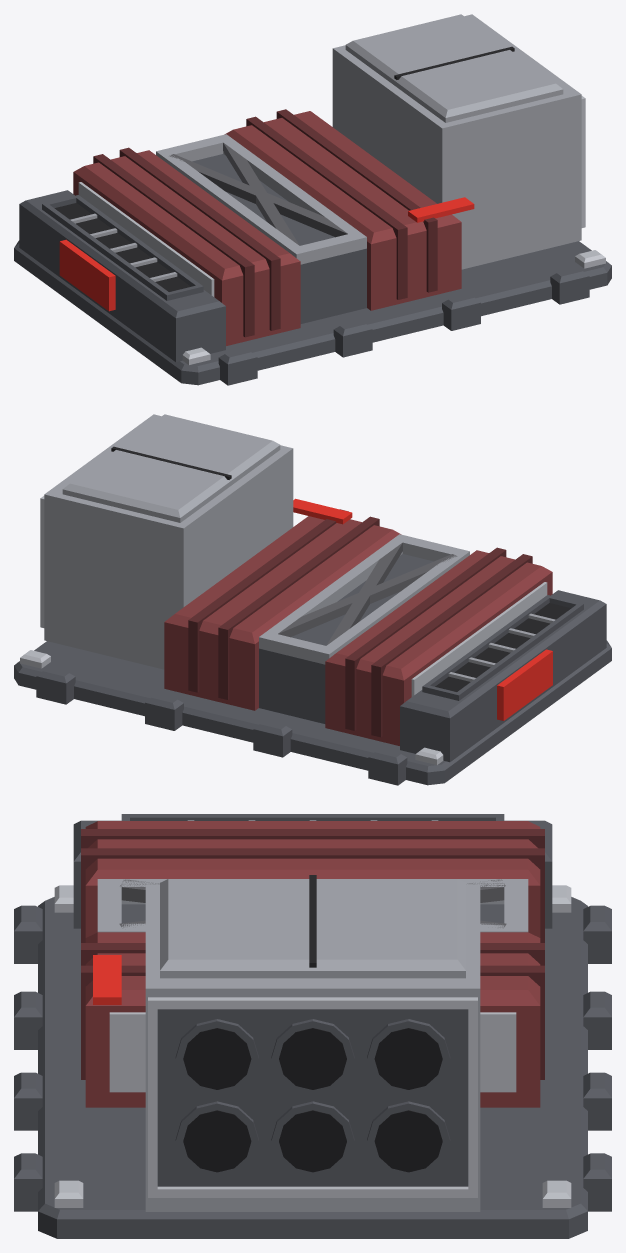
The model's file is vge_egun_javelin_pod.obj.
3 renders of one model, top to bottom at view 1: azimuth 30°, elevation 25°; view 2: azimuth 150°, elevation 25°; view 3: azimuth 270°, elevation 25°, orthographic. The views are drawn at different scales.
Parts seen in each view (by area): view 1: vge_egun_javelin_pod_58, vge_egun_javelin_pod_83, vge_egun_javelin_pod_2, vge_egun_javelin_pod_46, vge_egun_javelin_pod_40, vge_egun_javelin_pod_27, vge_egun_javelin_pod_1, vge_egun_javelin_pod_51, vge_egun_javelin_pod_45, vge_egun_javelin_pod_39, vge_egun_javelin_pod_28, vge_egun_javelin_pod_47 (+21 smaller); view 2: vge_egun_javelin_pod_58, vge_egun_javelin_pod_83, vge_egun_javelin_pod_2, vge_egun_javelin_pod_46, vge_egun_javelin_pod_40, vge_egun_javelin_pod_27, vge_egun_javelin_pod_1, vge_egun_javelin_pod_51, vge_egun_javelin_pod_45, vge_egun_javelin_pod_39, vge_egun_javelin_pod_28, vge_egun_javelin_pod_47 (+21 smaller); view 3: vge_egun_javelin_pod_2, vge_egun_javelin_pod_83, vge_egun_javelin_pod_59, vge_egun_javelin_pod_40, vge_egun_javelin_pod_58, vge_egun_javelin_pod_1, vge_egun_javelin_pod_45, vge_egun_javelin_pod_42, vge_egun_javelin_pod_50, vge_egun_javelin_pod_41, vge_egun_javelin_pod_46, vge_egun_javelin_pod_67 (+46 smaller).
Boxes of the visible parts, x1=… form: vge_egun_javelin_pod_58: x1=332, y1=14, x2=581, y2=269; vge_egun_javelin_pod_83: x1=346, y1=14, x2=562, y2=117; vge_egun_javelin_pod_2: x1=14, y1=240, x2=611, y2=372; vge_egun_javelin_pod_46: x1=224, y1=111, x2=461, y2=244; vge_egun_javelin_pod_40: x1=74, y1=150, x2=300, y2=280; vge_egun_javelin_pod_27: x1=19, y1=204, x2=225, y2=362; vge_egun_javelin_pod_1: x1=14, y1=248, x2=611, y2=385; vge_egun_javelin_pod_51: x1=192, y1=154, x2=366, y2=323; vge_egun_javelin_pod_45: x1=367, y1=222, x2=461, y2=310; vge_egun_javelin_pod_39: x1=73, y1=172, x2=300, y2=345; vge_egun_javelin_pod_28: x1=20, y1=190, x2=225, y2=318; vge_egun_javelin_pod_47: x1=246, y1=116, x2=407, y2=299; vge_egun_javelin_pod_58: x1=44, y1=414, x2=293, y2=669; vge_egun_javelin_pod_83: x1=63, y1=414, x2=279, y2=517; vge_egun_javelin_pod_2: x1=14, y1=640, x2=611, y2=772; vge_egun_javelin_pod_46: x1=164, y1=516, x2=401, y2=644; vge_egun_javelin_pod_40: x1=325, y1=550, x2=551, y2=680; vge_egun_javelin_pod_27: x1=400, y1=604, x2=606, y2=762; vge_egun_javelin_pod_1: x1=14, y1=648, x2=611, y2=785; vge_egun_javelin_pod_51: x1=259, y1=554, x2=433, y2=723; vge_egun_javelin_pod_45: x1=164, y1=622, x2=258, y2=710; vge_egun_javelin_pod_39: x1=325, y1=572, x2=552, y2=745; vge_egun_javelin_pod_28: x1=400, y1=590, x2=605, y2=718; vge_egun_javelin_pod_47: x1=218, y1=516, x2=379, y2=699; vge_egun_javelin_pod_2: x1=38, y1=897, x2=587, y2=1219; vge_egun_javelin_pod_83: x1=160, y1=879, x2=465, y2=970; vge_egun_javelin_pod_59: x1=157, y1=1009, x2=468, y2=1186; vge_egun_javelin_pod_40: x1=85, y1=821, x2=540, y2=885; vge_egun_javelin_pod_58: x1=145, y1=884, x2=480, y2=1211; vge_egun_javelin_pod_1: x1=38, y1=1211, x2=587, y2=1238; vge_egun_javelin_pod_45: x1=85, y1=1006, x2=540, y2=1107; vge_egun_javelin_pod_42: x1=81, y1=848, x2=544, y2=942; vge_egun_javelin_pod_50: x1=109, y1=1012, x2=516, y2=1092; vge_egun_javelin_pod_41: x1=81, y1=829, x2=544, y2=848; vge_egun_javelin_pod_46: x1=85, y1=932, x2=540, y2=1005; vge_egun_javelin_pod_67: x1=148, y1=997, x2=477, y2=1009.
Bounding box in the file's own units: 3.25 × 1.38 × 2.5.
